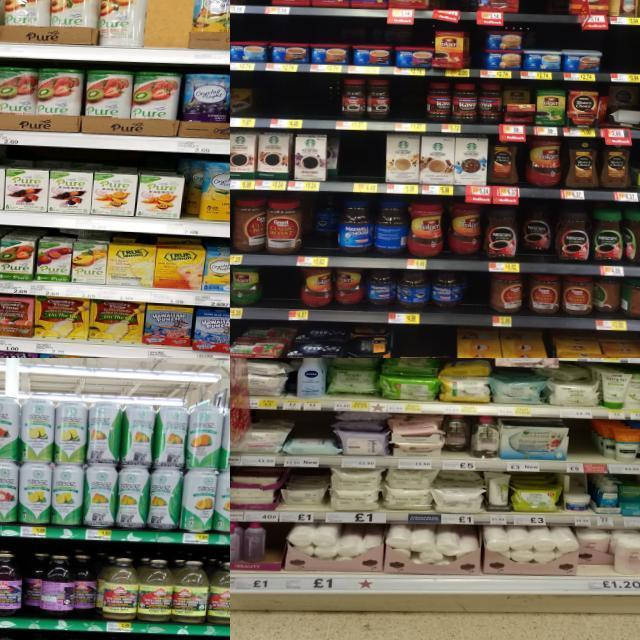Imprecise: (334, 408, 392, 454), (325, 358, 385, 398), (518, 198, 554, 264), (305, 193, 340, 257), (575, 526, 617, 578), (72, 555, 102, 618), (18, 554, 44, 614), (607, 82, 640, 126), (240, 520, 264, 574), (503, 88, 536, 124), (443, 414, 469, 459)
